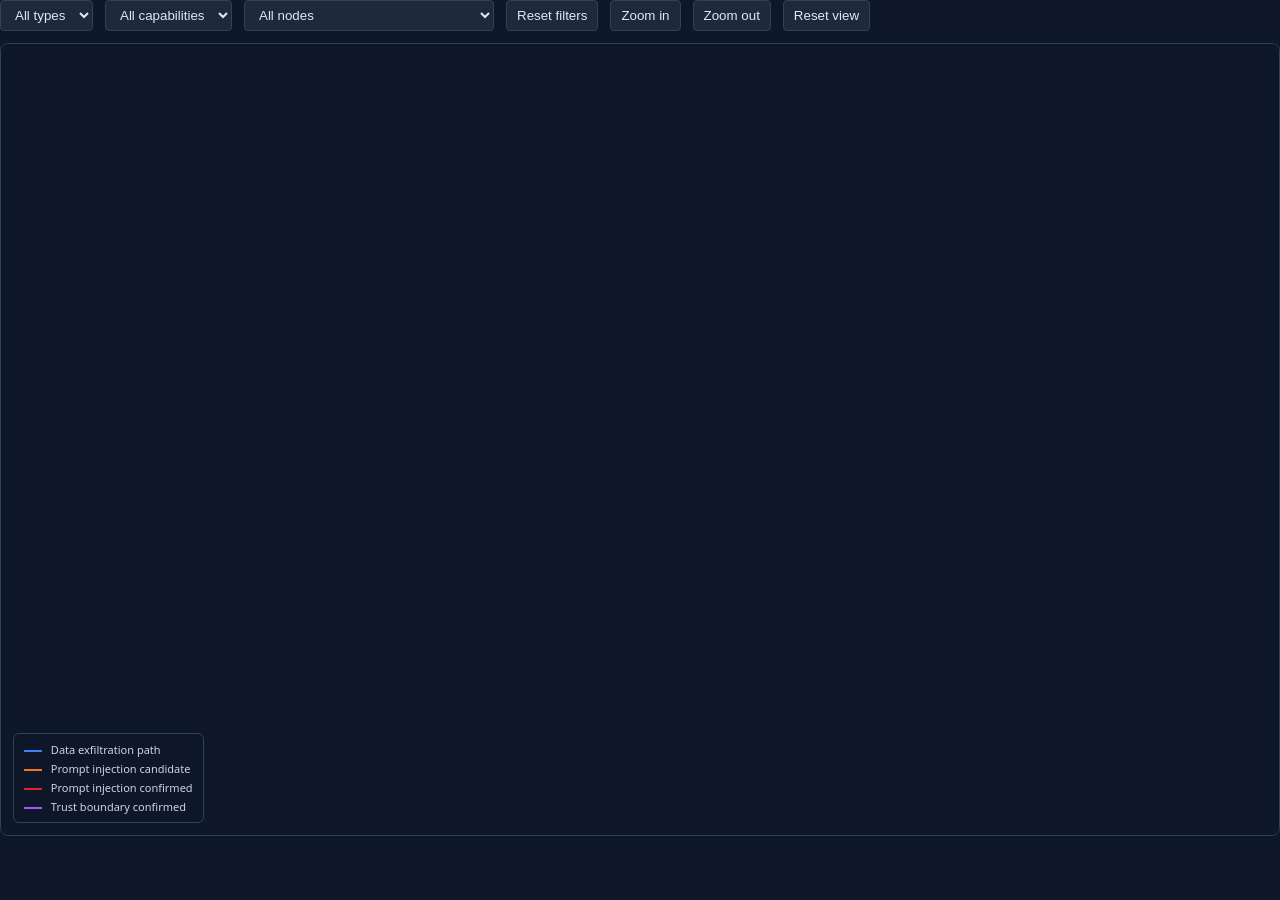
it: Graph trifecta filter controls › shows empty-set status when trifecta filter is enabled with no trifecta findings
Select "Trifecta paths (complete + partial)" in the dropdown with class "graph-trifecta-filter" at [369, 16], box [244,0,494,31]
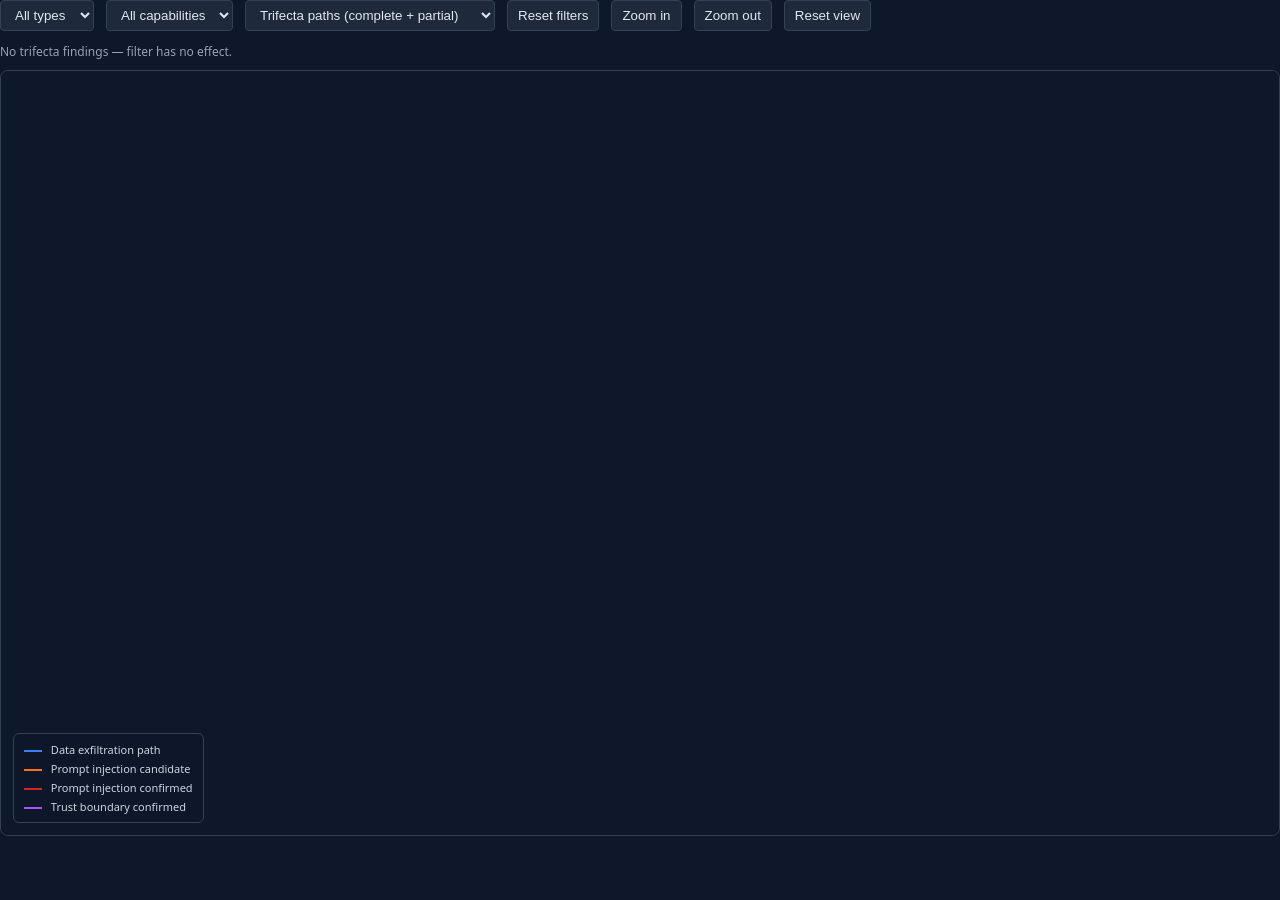
Now the text "No trifecta findings — filter has no effect." is shown, box [0,43,232,60]
